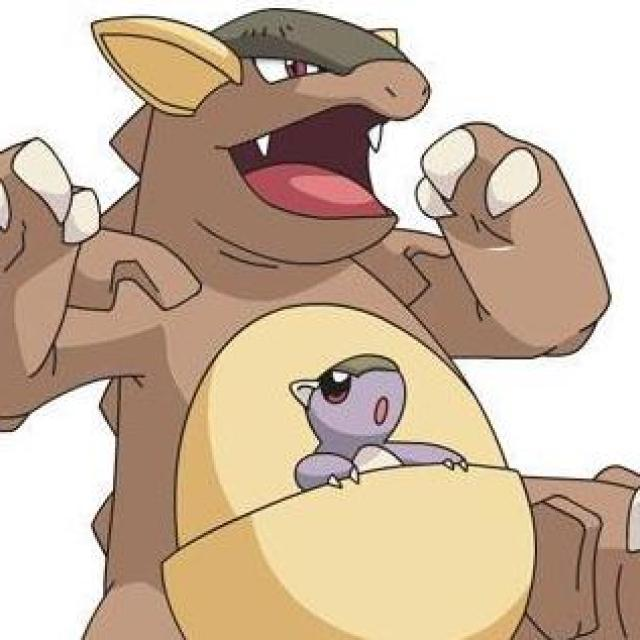Kangaskhan: (73, 14, 574, 640)
